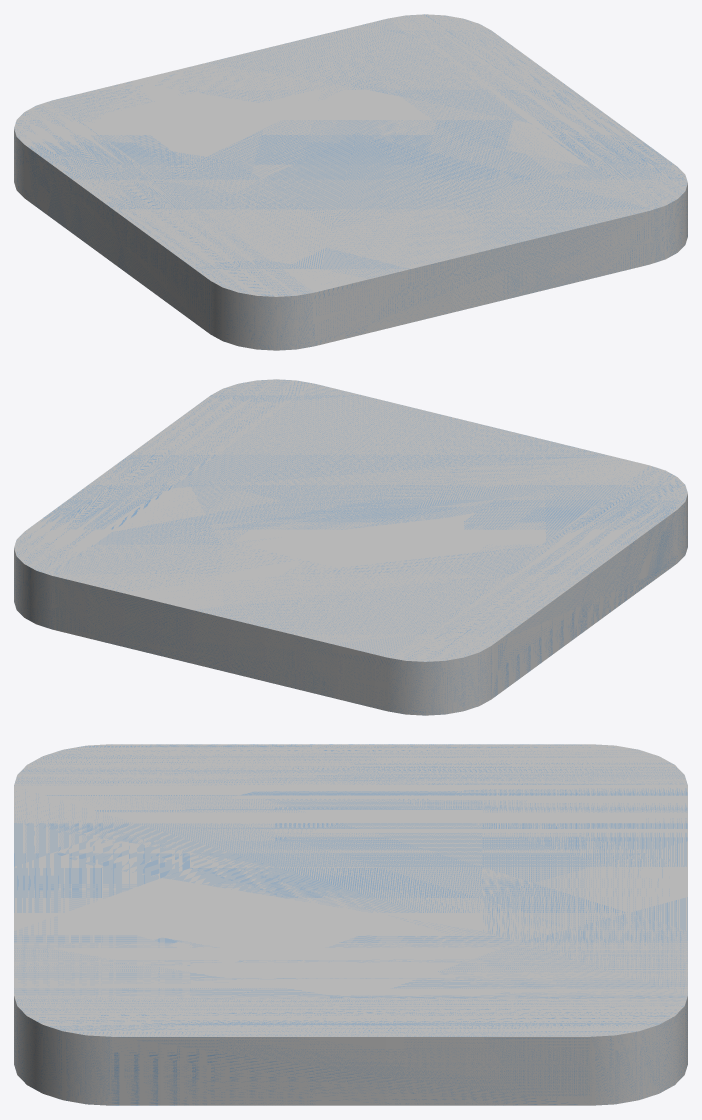
The model's file is original-101.obj.
3 views of the same model, one above another, from view 1: azimuth 30°, elevation 25°; view 2: azimuth 150°, elevation 25°; view 3: azimuth 270°, elevation 25° (orthographic). The views are drawn at different scales.
Visible parts, largest first — view 1: mesh99/mesh99-geometry#mesh99-geometry; view 2: mesh99/mesh99-geometry#mesh99-geometry; view 3: mesh99/mesh99-geometry#mesh99-geometry.
Part boxes in pixels (left/top/right/bottom): mesh99/mesh99-geometry#mesh99-geometry: left=14, top=14, right=687, bottom=350; mesh99/mesh99-geometry#mesh99-geometry: left=14, top=379, right=687, bottom=715; mesh99/mesh99-geometry#mesh99-geometry: left=14, top=744, right=687, bottom=1105.
Bounding box in the file's own units: 0.0475 × 0.00522 × 0.0462.
